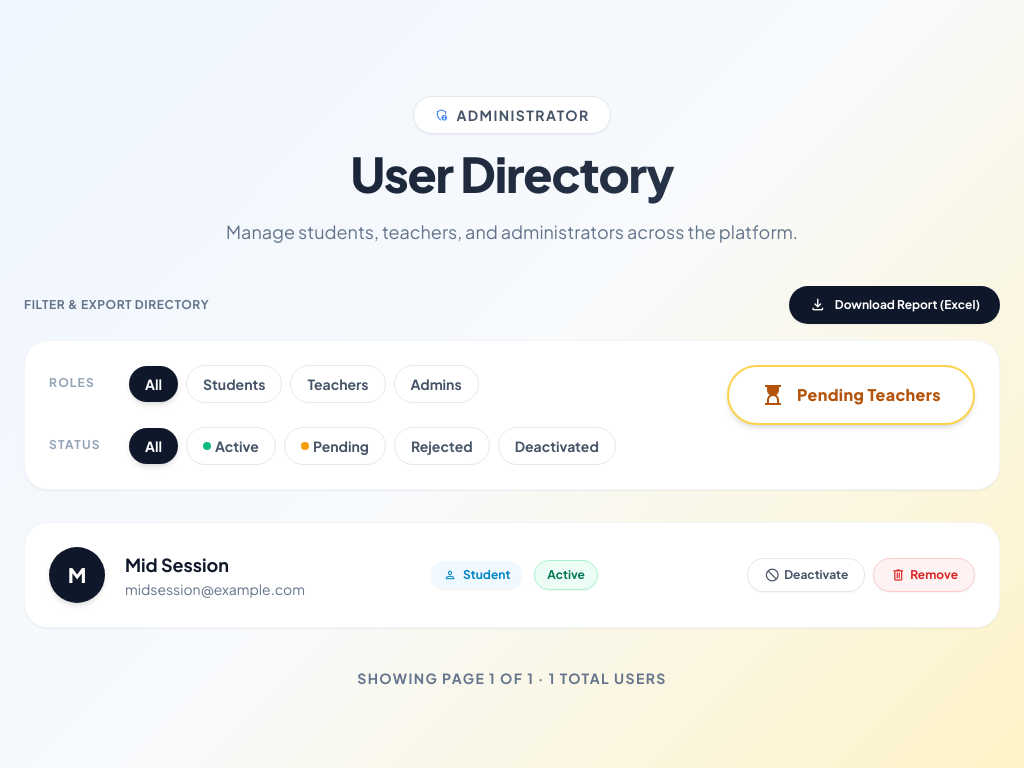
Test case: AdminUsersPage › shows Session Ended and clears localStorage when an account action comes back 401 mid-session
The width and height of the screenshot is (1024, 768).
Check: the heading "Mid Session" is shown, box [125, 553, 229, 576]
Click the button "Deactivate" at (806, 575), box [747, 558, 865, 592]
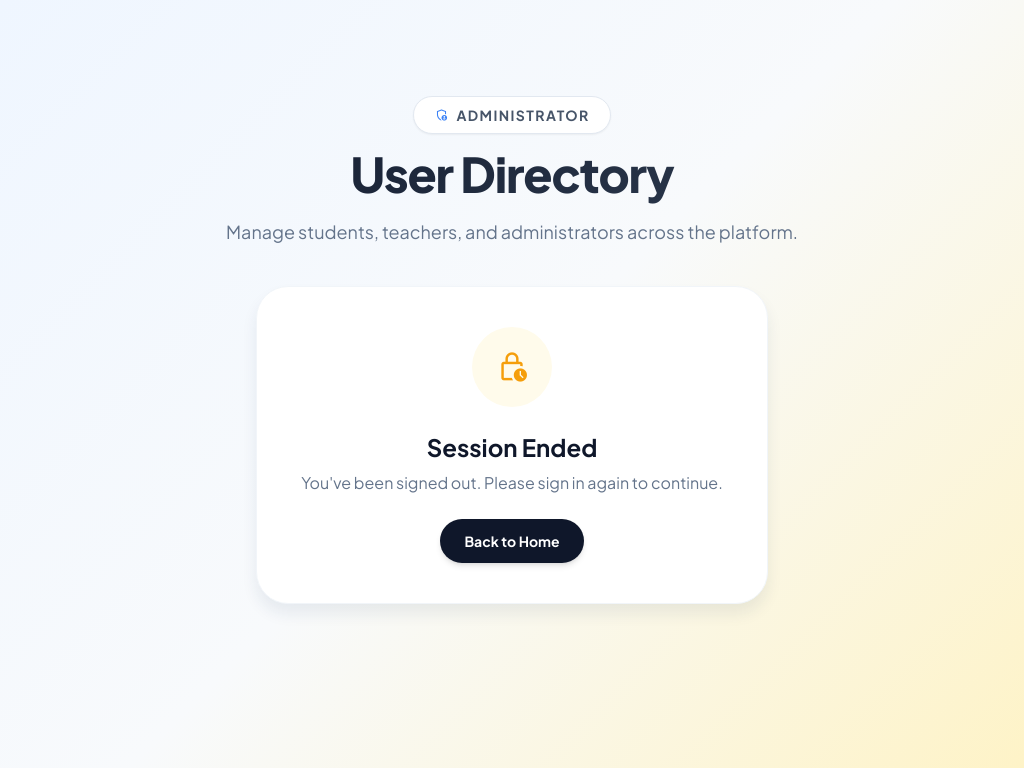
Check: the heading "Session Ended" is shown, box [427, 432, 597, 462]
